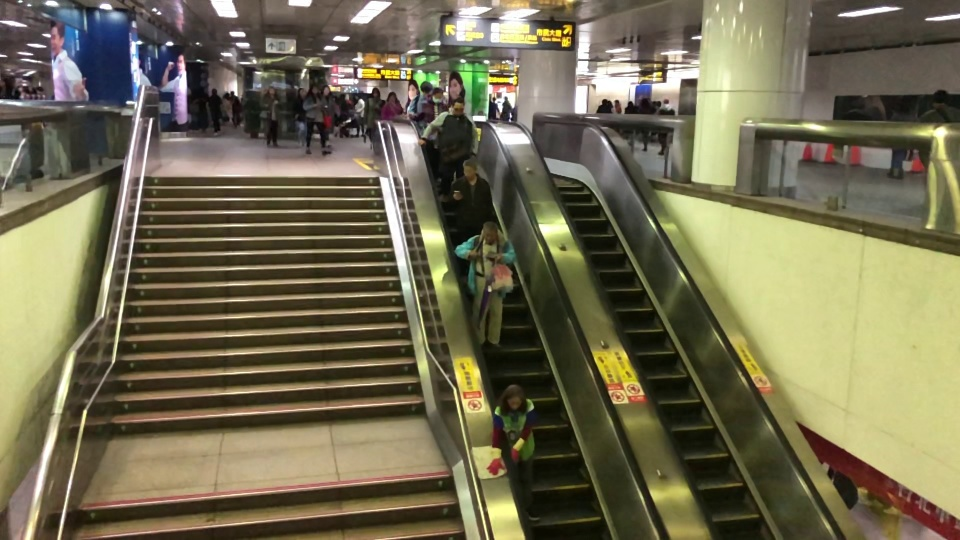person_head: (503, 384, 525, 410), (481, 220, 499, 245), (461, 158, 478, 179), (931, 88, 949, 107), (451, 97, 466, 116), (420, 79, 433, 98), (431, 87, 445, 103), (308, 83, 319, 94), (297, 87, 307, 99), (371, 87, 381, 99), (387, 91, 397, 103), (321, 84, 331, 95), (267, 85, 276, 95), (662, 97, 671, 106), (639, 97, 648, 106), (626, 99, 635, 107), (210, 87, 218, 95)
person_vbox: (454, 221, 517, 349), (485, 381, 542, 521), (419, 98, 478, 202), (449, 157, 493, 275), (408, 87, 449, 182), (914, 89, 960, 169), (303, 84, 333, 155), (407, 81, 435, 139), (262, 84, 283, 149), (362, 87, 386, 143), (318, 84, 337, 148), (657, 99, 675, 157), (637, 98, 656, 151), (292, 85, 307, 146), (206, 87, 223, 137), (623, 101, 638, 153), (380, 91, 403, 121)
